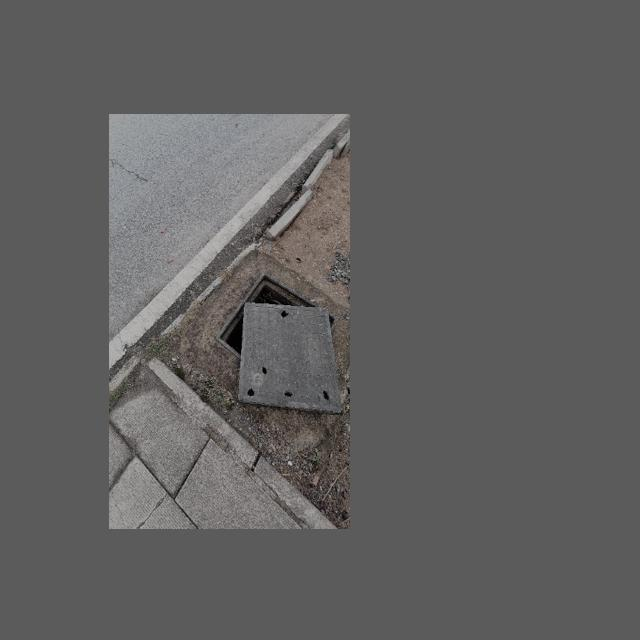uncovered: (215, 272, 342, 415)
